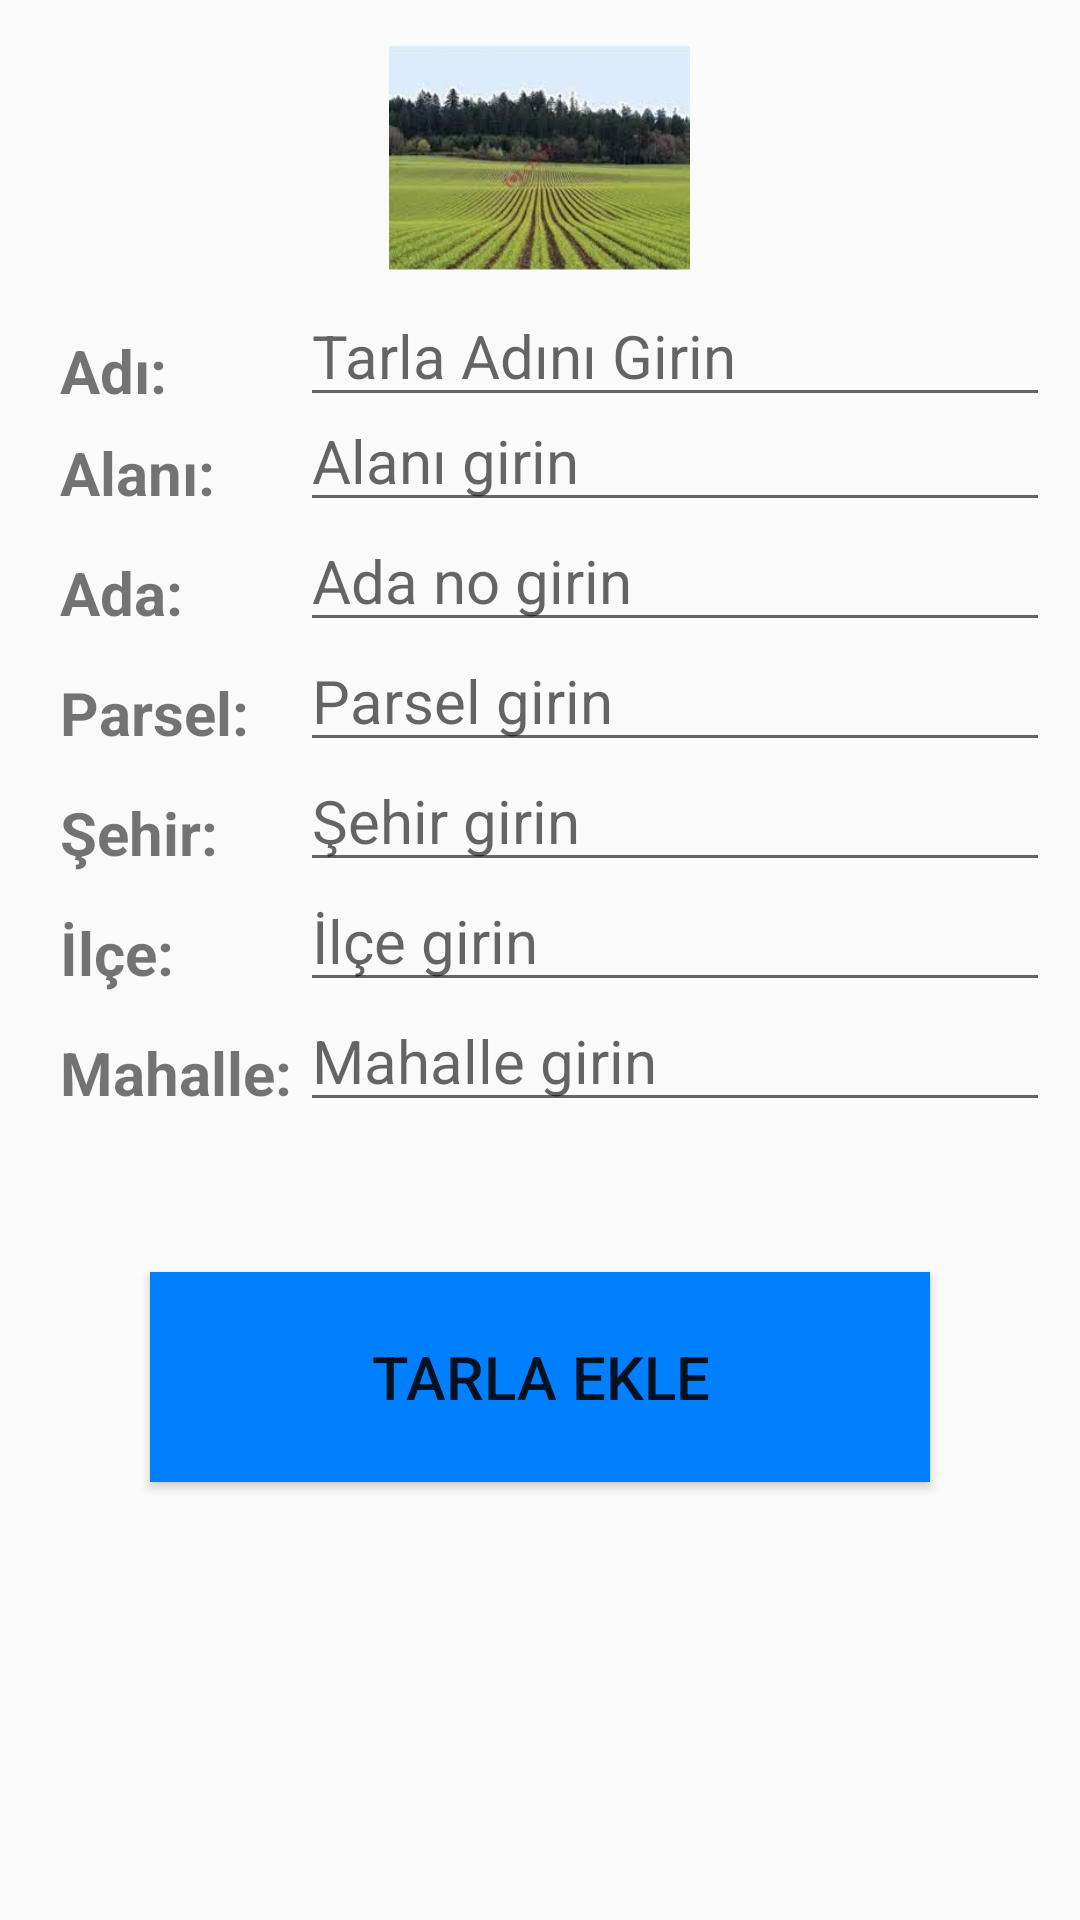

Locate icon controls on the screen. Image size 1080px x 1920px, boxes as [x1=x1, y1=y1, x2=x2, y2=y2].
gardenicon: [x1=389, y1=46, x2=690, y2=270]
